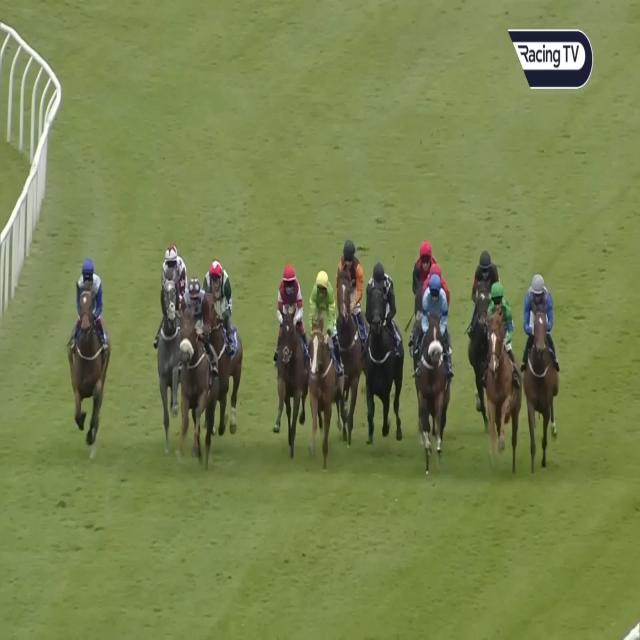horses-racing: (409, 273, 454, 466), (517, 268, 559, 466), (176, 276, 217, 458), (69, 256, 108, 446), (302, 266, 338, 459), (333, 237, 367, 432), (365, 259, 402, 435), (486, 279, 519, 458), (272, 262, 302, 450), (206, 254, 239, 406), (158, 245, 185, 422), (470, 242, 496, 409), (420, 262, 453, 308), (411, 239, 433, 296)
